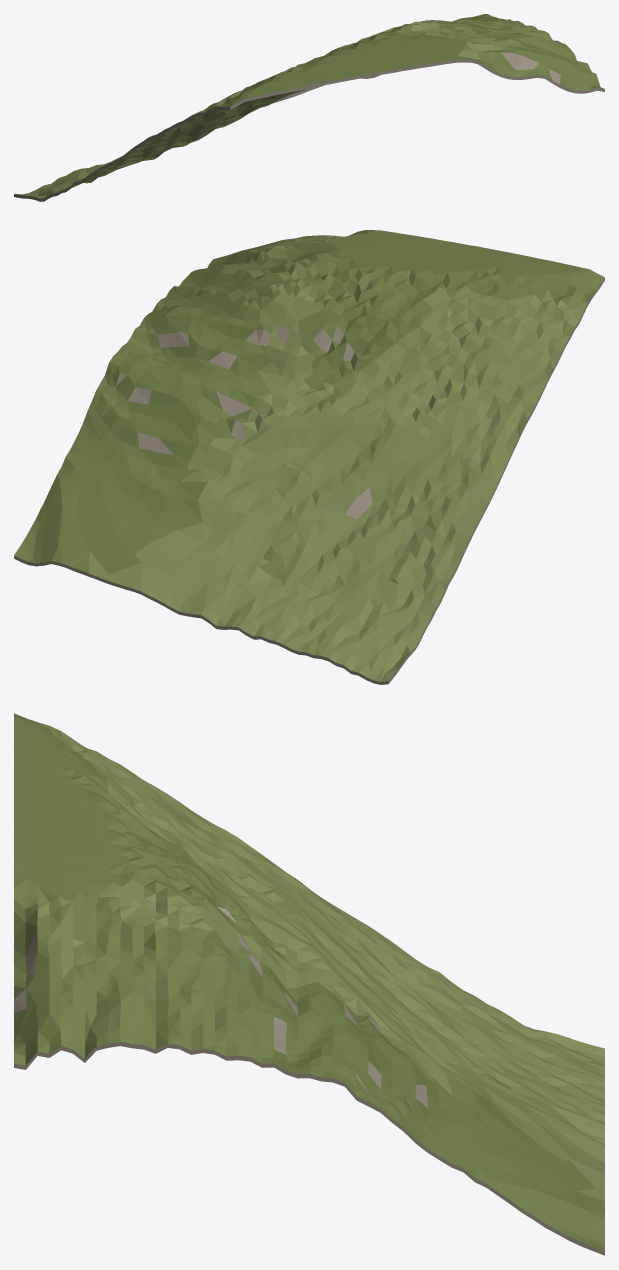
File: parca_+7_-5-uzak.glb
The picture shows the model from 3 angles, top to bottom: view 1: azimuth 30°, elevation 25°; view 2: azimuth 150°, elevation 25°; view 3: azimuth 270°, elevation 25°; orthographic projection. The views are drawn at different scales.
Parts seen in each view (by area): view 1: parca_+7_-5_arazi_uzak; view 2: parca_+7_-5_arazi_uzak; view 3: parca_+7_-5_arazi_uzak.
Boxes of the visible parts, x1,y1,x2,y2 form: parca_+7_-5_arazi_uzak: (14, 14, 604, 201); parca_+7_-5_arazi_uzak: (14, 230, 604, 684); parca_+7_-5_arazi_uzak: (14, 713, 604, 1255).
Bounding box in the file's own units: 1000 × 652 × 1000.
